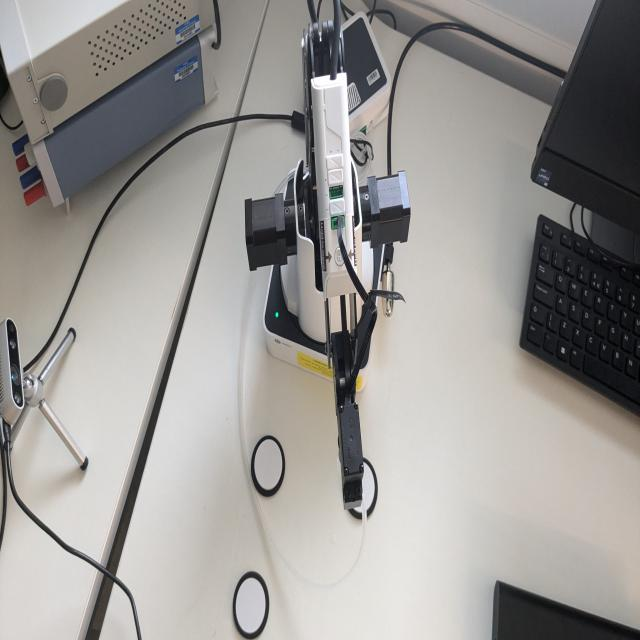Robot-end-effector-HF8z: (334, 399, 376, 526)
